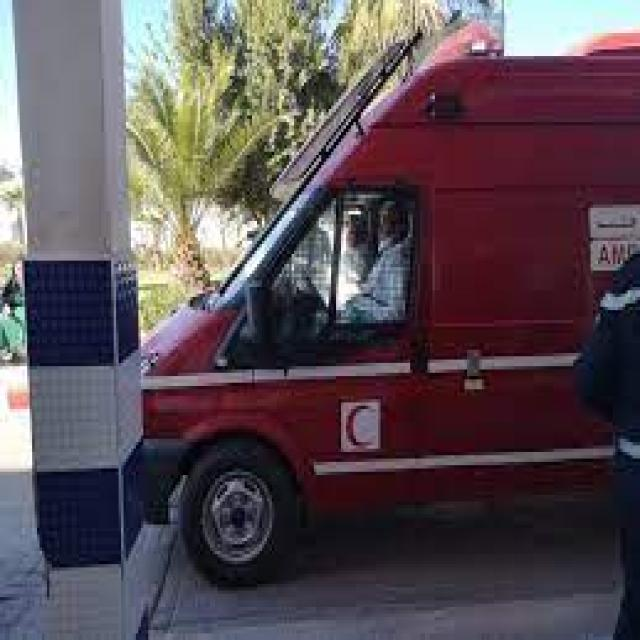ambulance: (137, 40, 640, 580)
